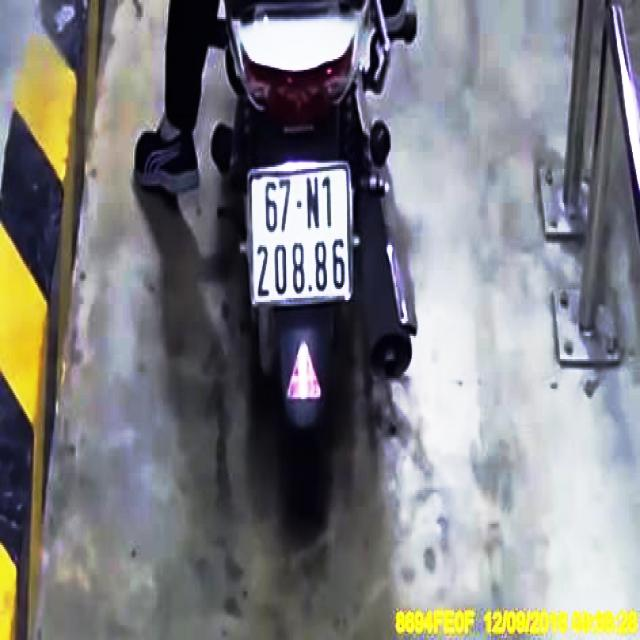license_plate: (251, 170, 352, 305)
